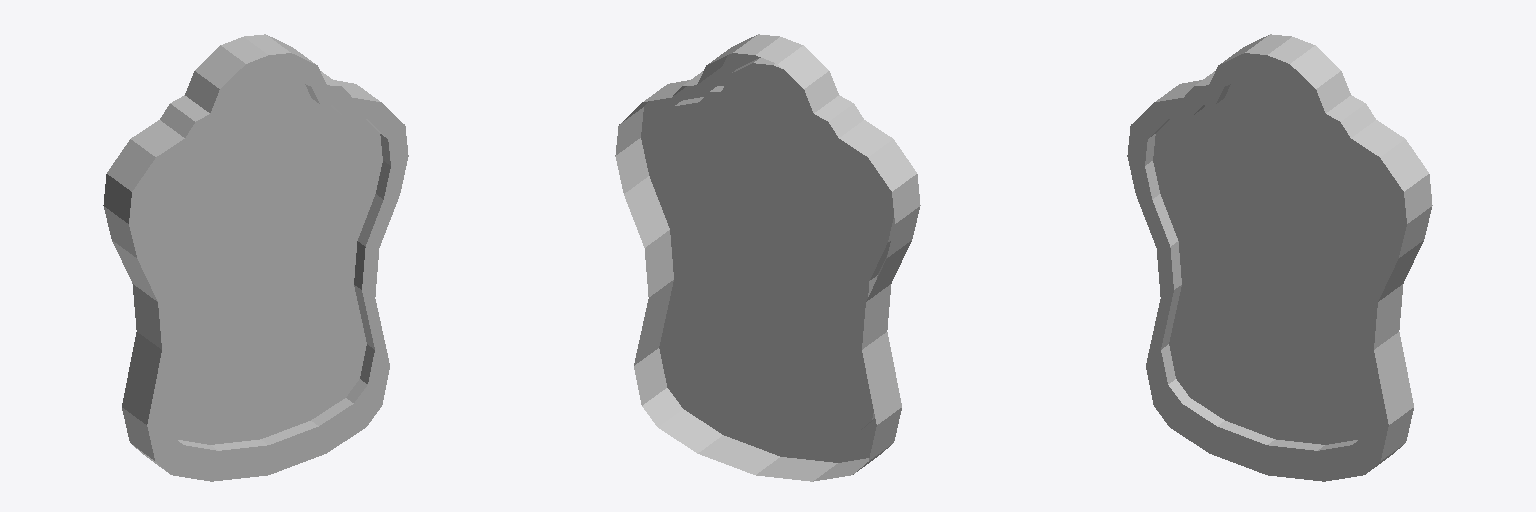
Rendered from mirror.obj.
3 renders of one model, left to right at view 1: azimuth 30°, elevation 25°; view 2: azimuth 150°, elevation 25°; view 3: azimuth 330°, elevation 25°, orthographic.
Visible parts, largest first — view 1: mirror; view 2: mirror; view 3: mirror.
Part boxes in pixels (x1,y1,x2,y2): mirror: (103,34,408,481); mirror: (615,34,920,481); mirror: (1127,34,1432,481).
Bounding box in the file's own units: 2.21 × 3.17 × 0.3492.